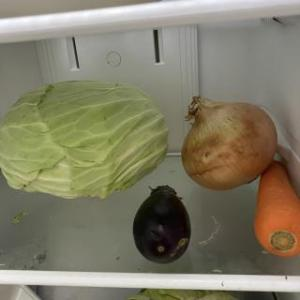cabbage: (0, 79, 170, 203)
carrot: (252, 158, 300, 258)
eggplant: (131, 184, 191, 266)
onion: (181, 94, 277, 193)
